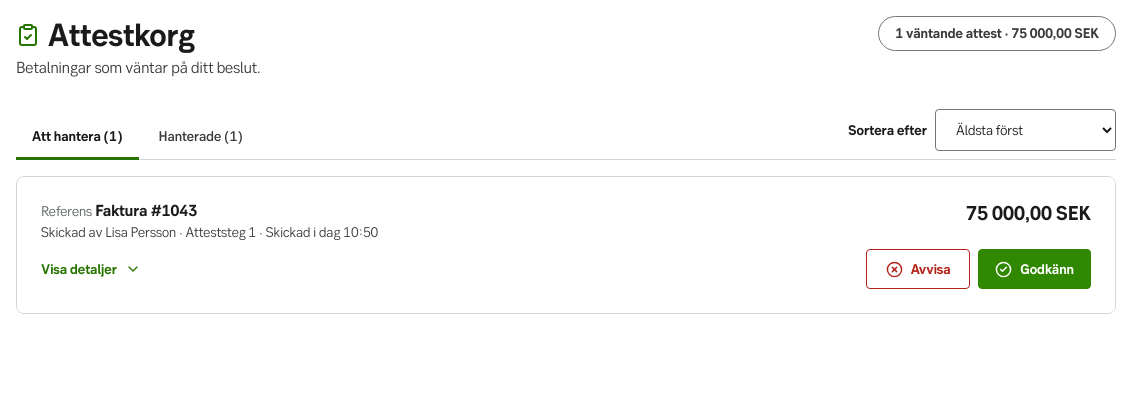
Approval inbox with keyboard and screen reader › shows a compact card and opens the details on request
This screenshot has width=1133, height=414.
Expected: the text "Skickad av Lisa Persson" is shown, [41, 224, 176, 241]
Expected: the text "Till IBAN" is not shown
Click the button with aria-label "Visa detaljer för Faktura #1043" at point(91, 269), box [41, 249, 141, 289]
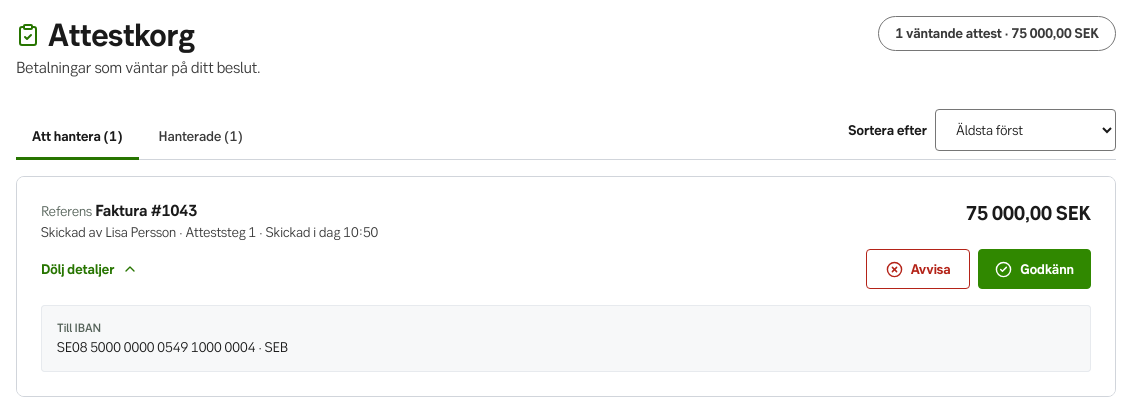
Now the button named "Visa detaljer för Faktura #1043" is expanded, box [41, 249, 138, 289]
Now the text "Till IBAN" is shown, box [57, 321, 101, 335]
